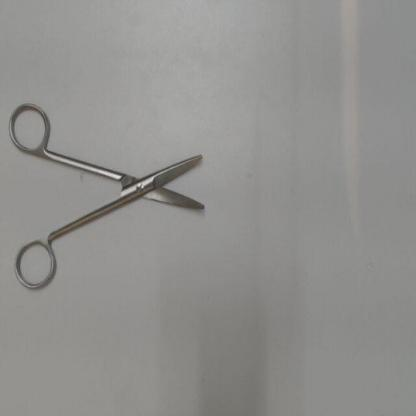Curved Mayo Scissors: (4, 95, 214, 302)
